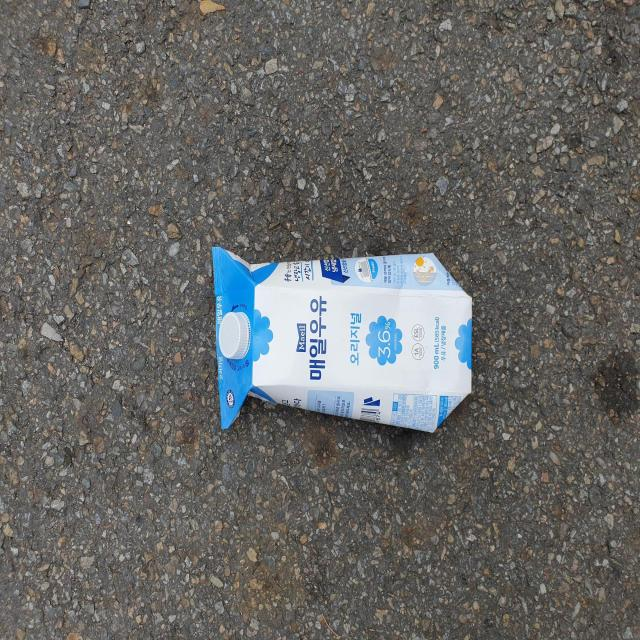paperpack: (212, 247, 473, 432)
